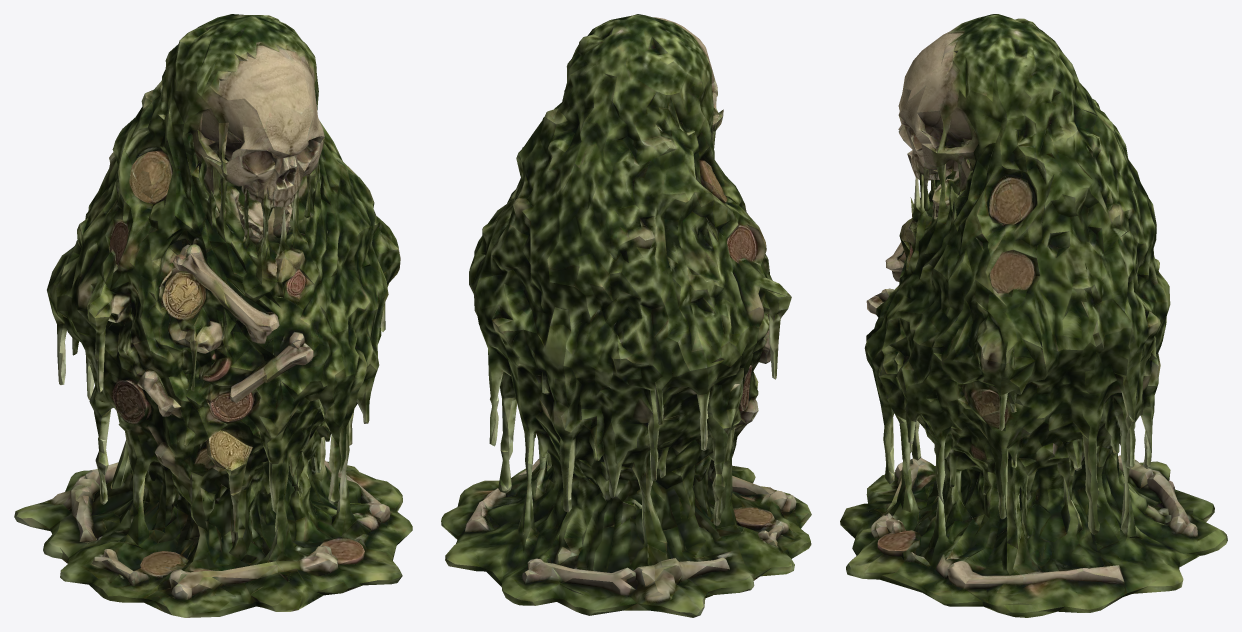
File: slime.glb
The picture shows the model from 3 angles, left to right: view 1: azimuth 30°, elevation 25°; view 2: azimuth 150°, elevation 25°; view 3: azimuth 270°, elevation 25°; orthographic projection. The views are drawn at different scales.
Parts seen in each view (by area): view 1: Mesh_0; view 2: Mesh_0; view 3: Mesh_0.
Part boxes in pixels (x1=…): Mesh_0: x1=14, y1=14, x2=412, y2=617; Mesh_0: x1=441, y1=14, x2=811, y2=617; Mesh_0: x1=840, y1=14, x2=1227, y2=617.
Bounding box in the file's own units: 1.28 × 1.9 × 1.29.
Materials: 1 (1 with a texture image).
